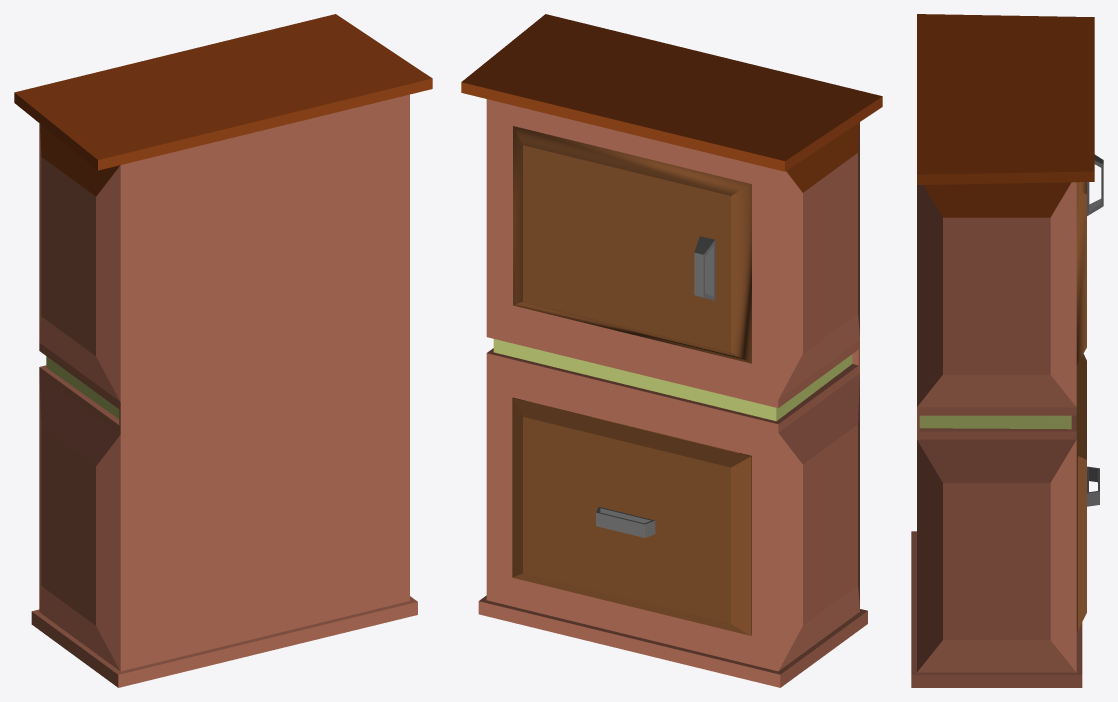
Rendered from File Cabinet.fbx.
The picture shows the model from 3 angles, left to right: view 1: azimuth 30°, elevation 25°; view 2: azimuth 150°, elevation 25°; view 3: azimuth 270°, elevation 25°; orthographic projection. The views are drawn at different scales.
Parts seen in each view (by area): view 1: Node 2; view 2: Node 2, Node 0, Node 1; view 3: Node 2, Node 0, Node 1.
Part boxes in pixels (box(x1,y1,x2,y2)): Node 2: box(14, 14, 432, 687); Node 2: box(461, 14, 882, 687); Node 0: box(512, 397, 751, 635); Node 1: box(513, 126, 751, 363); Node 2: box(911, 14, 1094, 687); Node 0: box(1076, 354, 1099, 631); Node 1: box(1076, 154, 1103, 364).
Bounding box in the file's own units: 0.4382 × 0.6633 × 0.2217.
